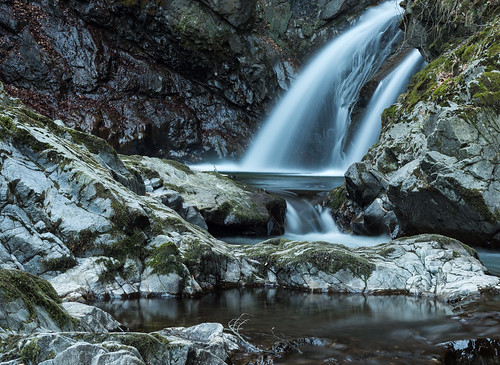rocks: (1, 113, 468, 365)
waterfall: (216, 3, 452, 197)
